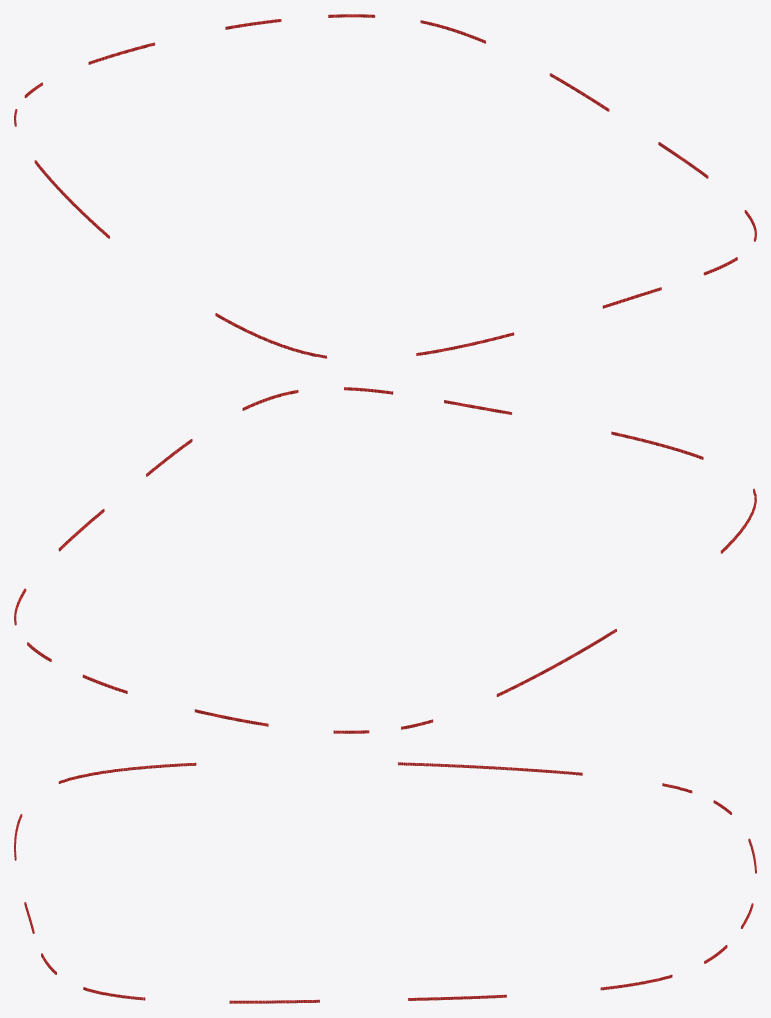
Rendered from SM_DK_04_Safety_barriers_and_perimeter_fence_red.fbx.
The picture shows the model from 3 angles, top to bottom: view 1: azimuth 30°, elevation 25°; view 2: azimuth 150°, elevation 25°; view 3: azimuth 270°, elevation 25°; orthographic projection. The views are drawn at different scales.
Visible parts, largest first — view 1: 04 Safety barriers and perimeter fence | red; view 2: 04 Safety barriers and perimeter fence | red; view 3: 04 Safety barriers and perimeter fence | red.
Boxes of the visible parts, <box> form: 04 Safety barriers and perimeter fence | red: <box>14,14,756,358</box>; 04 Safety barriers and perimeter fence | red: <box>14,387,756,733</box>; 04 Safety barriers and perimeter fence | red: <box>14,762,756,1003</box>.
Size of the model in its own units: 24331 by 31930 by 111.
